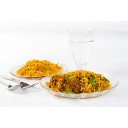briyani: (51, 71, 112, 93), (19, 58, 58, 75)
